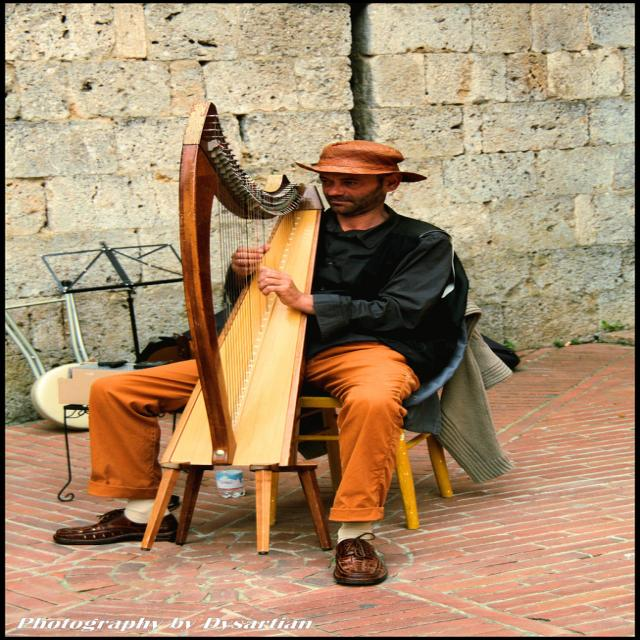harp: (153, 101, 330, 470)
